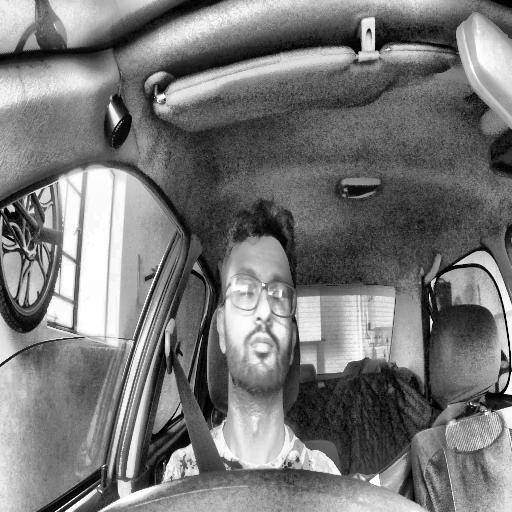drowsy: (216, 202, 298, 404)
